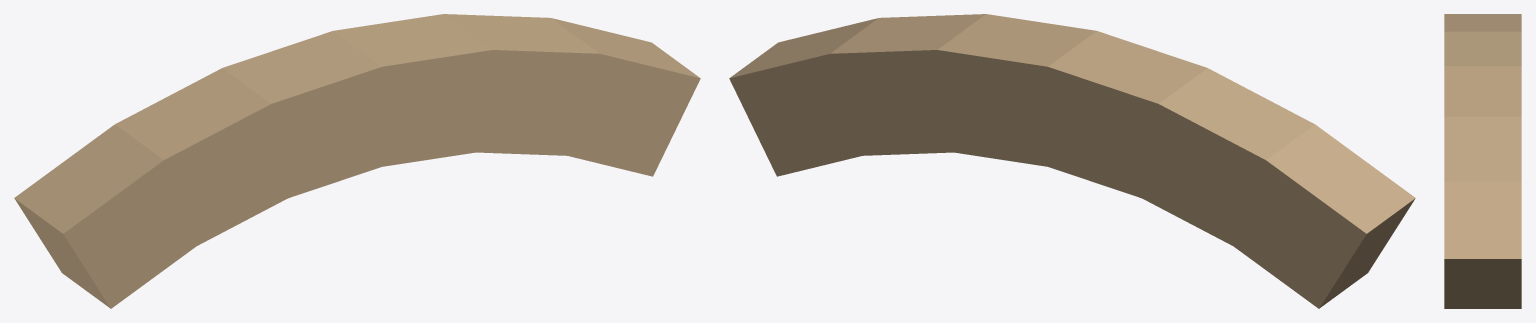
Rendered from prop-felloe-segment.fbx.
3 renders of one model, left to right at view 1: azimuth 30°, elevation 25°; view 2: azimuth 150°, elevation 25°; view 3: azimuth 270°, elevation 25°, orthographic. The views are drawn at different scales.
Parts seen in each view (by area): view 1: prop-felloe-segment; view 2: prop-felloe-segment; view 3: prop-felloe-segment.
Boxes of the visible parts, x1,y1,x2,y2 form: prop-felloe-segment: [14, 14, 700, 308]; prop-felloe-segment: [729, 14, 1415, 308]; prop-felloe-segment: [1444, 14, 1521, 308].
Bounding box in the file's own units: 60 × 15.83 × 8.
